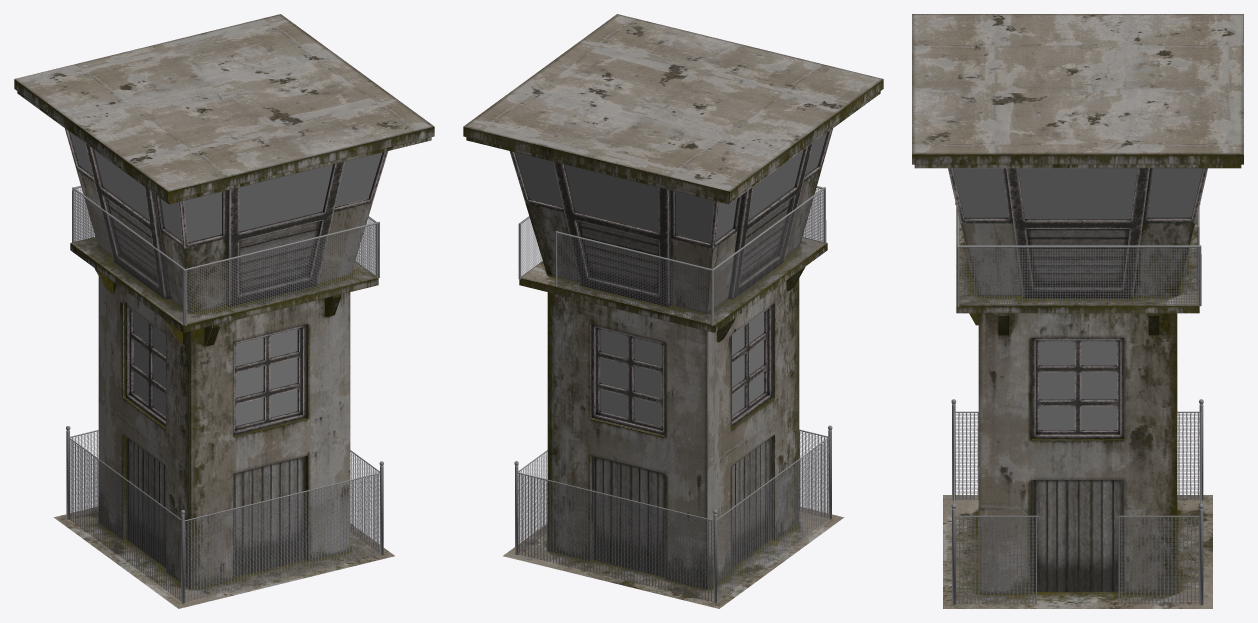
The model's file is watchtower_gamereadylowpoly.glb.
3 views of the same model, side by side, from view 1: azimuth 30°, elevation 25°; view 2: azimuth 150°, elevation 25°; view 3: azimuth 270°, elevation 25° (orthographic). The views are drawn at different scales.
Parts seen in each view (by area): view 1: Plane_0, Cube.003_4, Cube.005_7, Cube.002_3, Cube.006_6, Cube_1, Cube.004_5, Cube.007_8, Cube.008_9; view 2: Plane_0, Cube_1, Cube.002_3, Cube.008_9, Cube.006_6, Cube.004_5, Cube.003_4, Cube.007_8, Cube.005_7; view 3: Plane_0, Cube.004_5, Cube.007_8, Cube.002_3, Cube.003_4, Cube_1, Cube.001_2.
Boxes of the visible parts, x1=… form: Plane_0: x1=14, y1=14, x2=434, y2=608; Cube.003_4: x1=184, y1=461, x2=383, y2=602; Cube.005_7: x1=183, y1=221, x2=379, y2=324; Cube.002_3: x1=69, y1=437, x2=184, y2=603; Cube.006_6: x1=72, y1=187, x2=186, y2=325; Cube_1: x1=66, y1=426, x2=98, y2=519; Cube.004_5: x1=350, y1=450, x2=379, y2=552; Cube.007_8: x1=355, y1=216, x2=377, y2=277; Cube.008_9: x1=72, y1=185, x2=95, y2=243; Plane_0: x1=463, y1=14, x2=883, y2=608; Cube_1: x1=518, y1=472, x2=717, y2=603; Cube.002_3: x1=717, y1=425, x2=832, y2=600; Cube.008_9: x1=555, y1=231, x2=713, y2=324; Cube.006_6: x1=711, y1=187, x2=825, y2=325; Cube.004_5: x1=518, y1=450, x2=547, y2=551; Cube.003_4: x1=799, y1=429, x2=828, y2=517; Cube.007_8: x1=518, y1=216, x2=542, y2=279; Cube.005_7: x1=803, y1=186, x2=826, y2=243; Plane_0: x1=912, y1=14, x2=1243, y2=608; Cube.004_5: x1=955, y1=515, x2=1199, y2=604; Cube.007_8: x1=956, y1=245, x2=1201, y2=306; Cube.002_3: x1=951, y1=399, x2=1199, y2=500; Cube.003_4: x1=951, y1=412, x2=956, y2=605; Cube_1: x1=1199, y1=399, x2=1203, y2=503; Cube.001_2: x1=1199, y1=504, x2=1203, y2=605.
Size of the model in its own units: 1.99 by 3.1 by 1.99.
6 materials, 4 textured.
